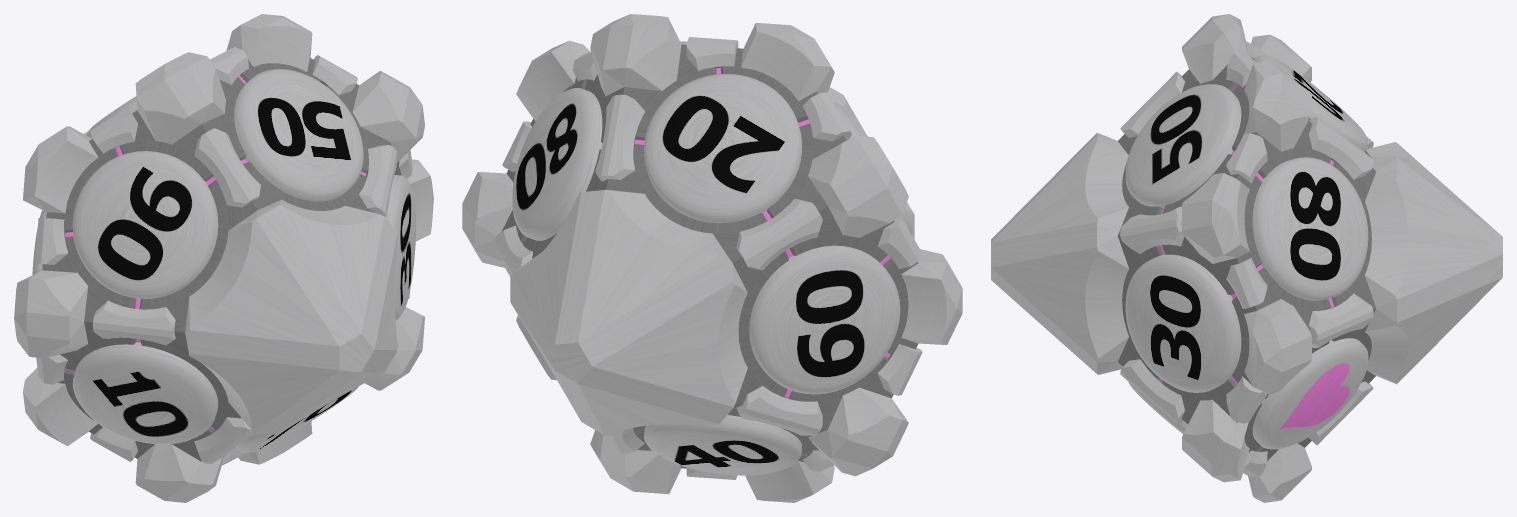
Rendered from wcube_d100.glb.
The picture shows the model from 3 angles, left to right: view 1: azimuth 30°, elevation 25°; view 2: azimuth 150°, elevation 25°; view 3: azimuth 270°, elevation 25°; orthographic projection. The views are drawn at different scales.
Parts seen in each view (by area): view 1: d100_heart.001; view 2: d100_heart.001; view 3: d100_heart.001.
Part boxes in pixels (x1,y1,x2,y2): d100_heart.001: [14, 14, 433, 502]; d100_heart.001: [462, 14, 962, 502]; d100_heart.001: [991, 14, 1502, 502].
Size of the model in its own units: 184 by 175 by 191.
Materials: 1 (1 with a texture image).
